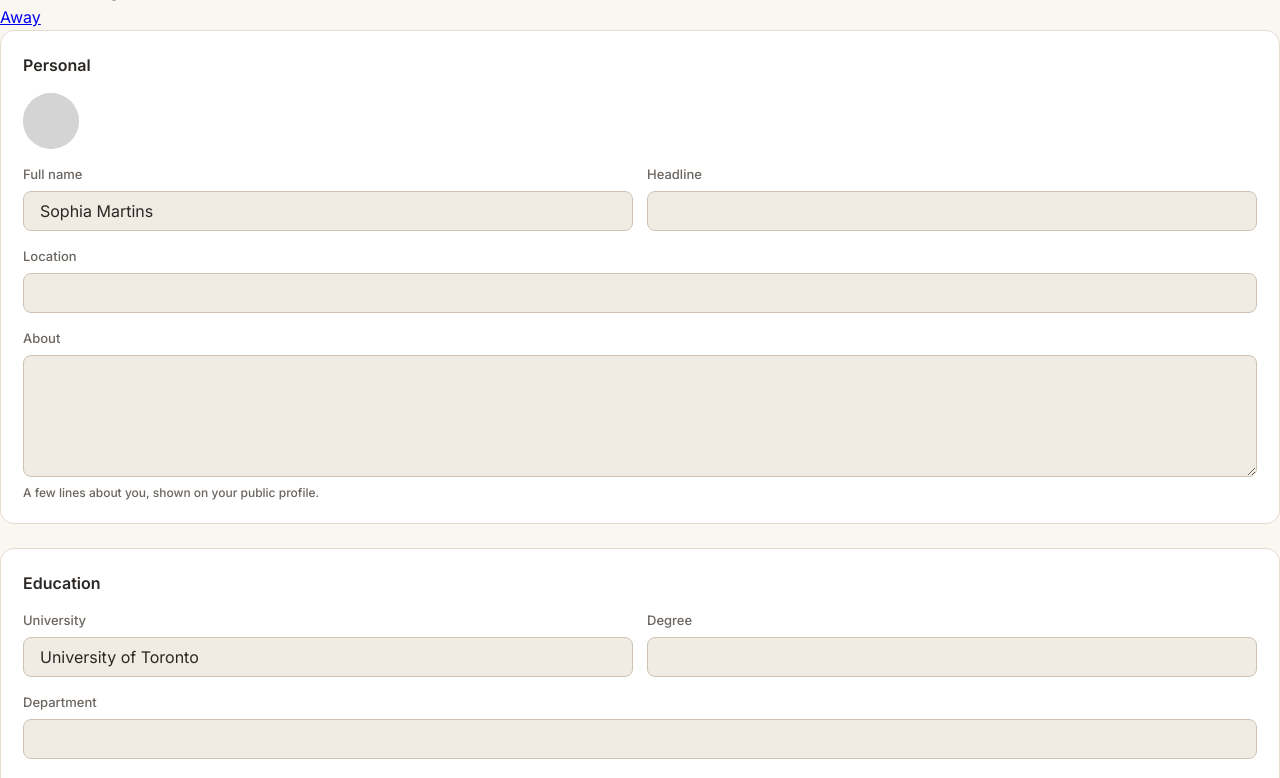
Test: ProfileForm editing › shows the save bar only while dirty, and Discard restores the saved values
The width and height of the screenshot is (1280, 778).
Expected: the element "Unsaved changes" is not shown
Step 1. Replace the text in the field labelled "Full name" with "Sophia M" → (328,211), box [23,191,633,231]
(page scrolled)
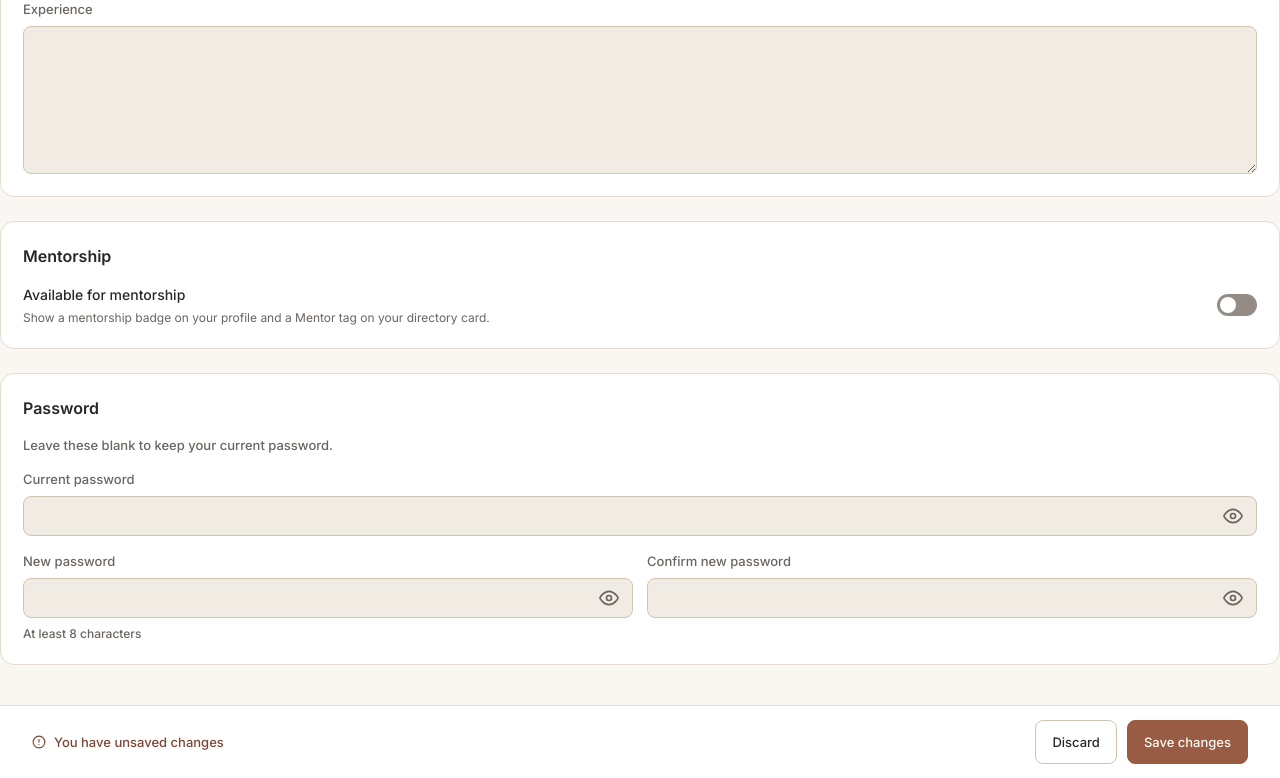
Now the element "unsaved changes" is shown, box [0,705,1279,777]
Step 2. Type "x" into the password field labelled "Current password" → (640,516), box [23,496,1257,536]
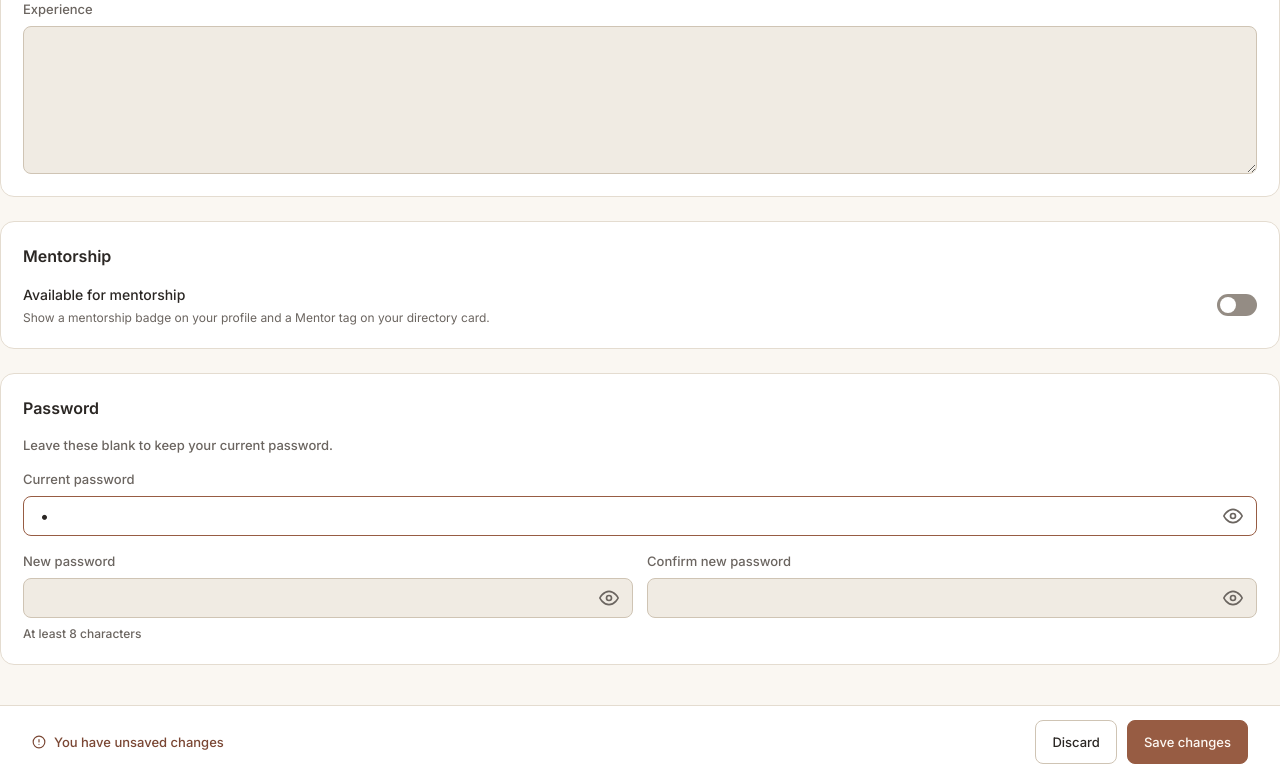
Step 3. Click the button "Discard" → (1076,742), box [1035,720,1117,764]
(page scrolled)
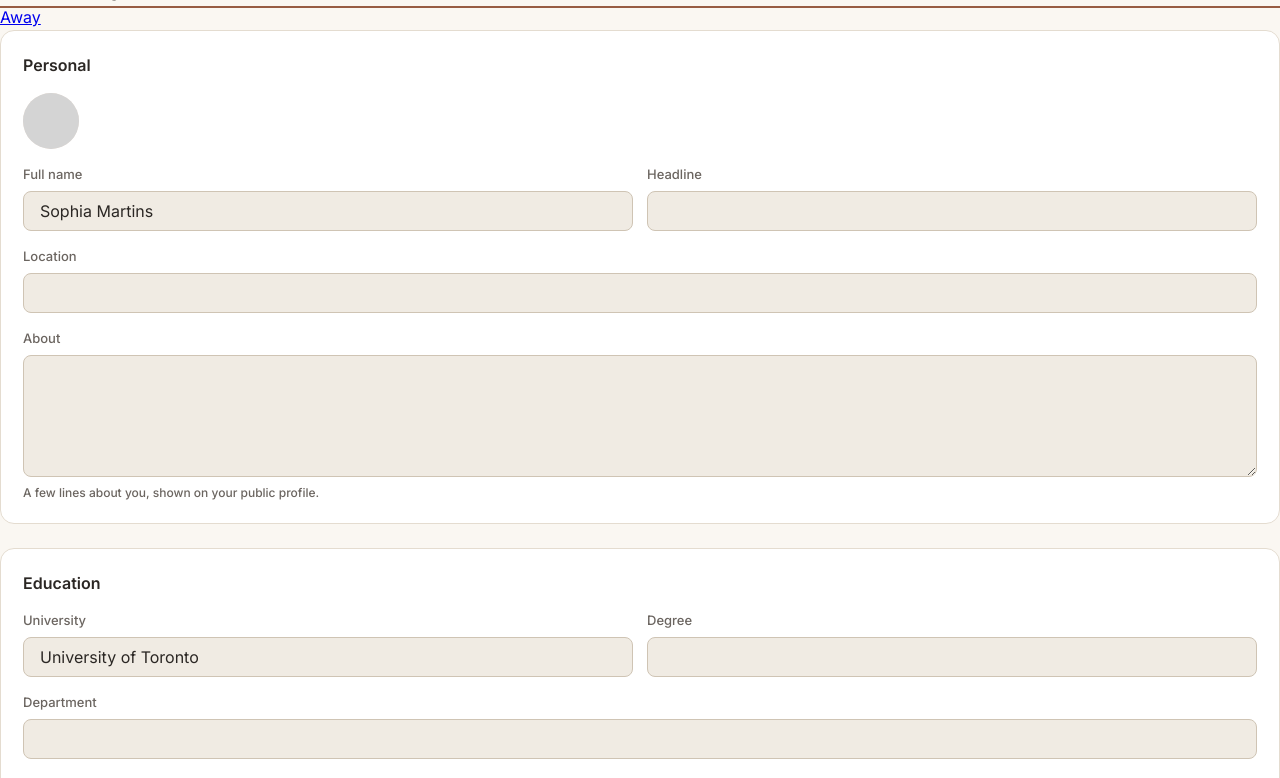
Now the field labelled "Full name" holds "Sophia Martins", box [23,191,633,231]
Now the element "unsaved changes" is gone
